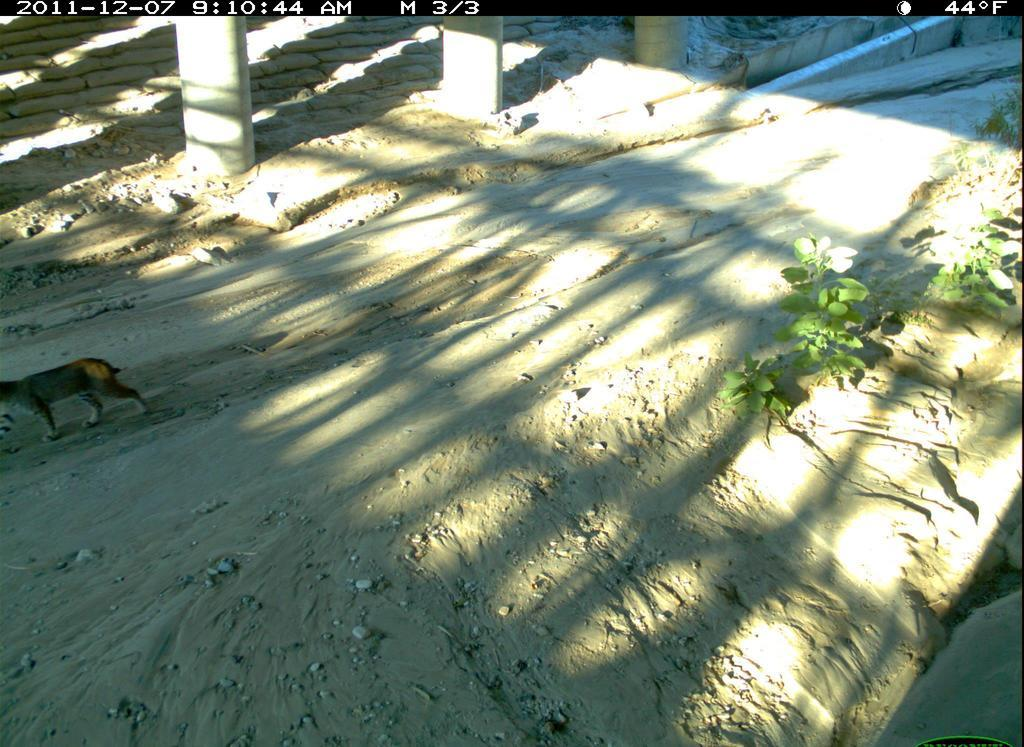bobcat: (1, 359, 155, 446)
